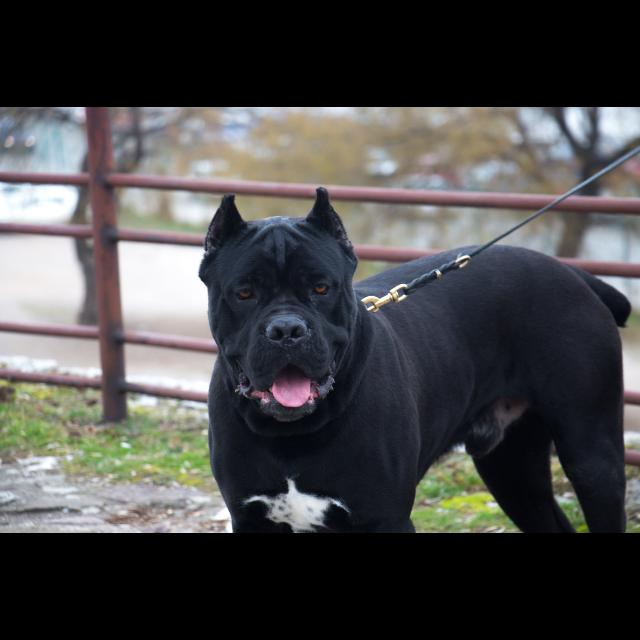mastino_napoletano: (198, 187, 632, 533)
